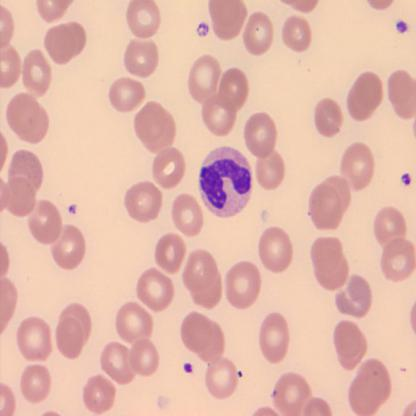Band Neutrophil: (196, 144, 254, 220)
